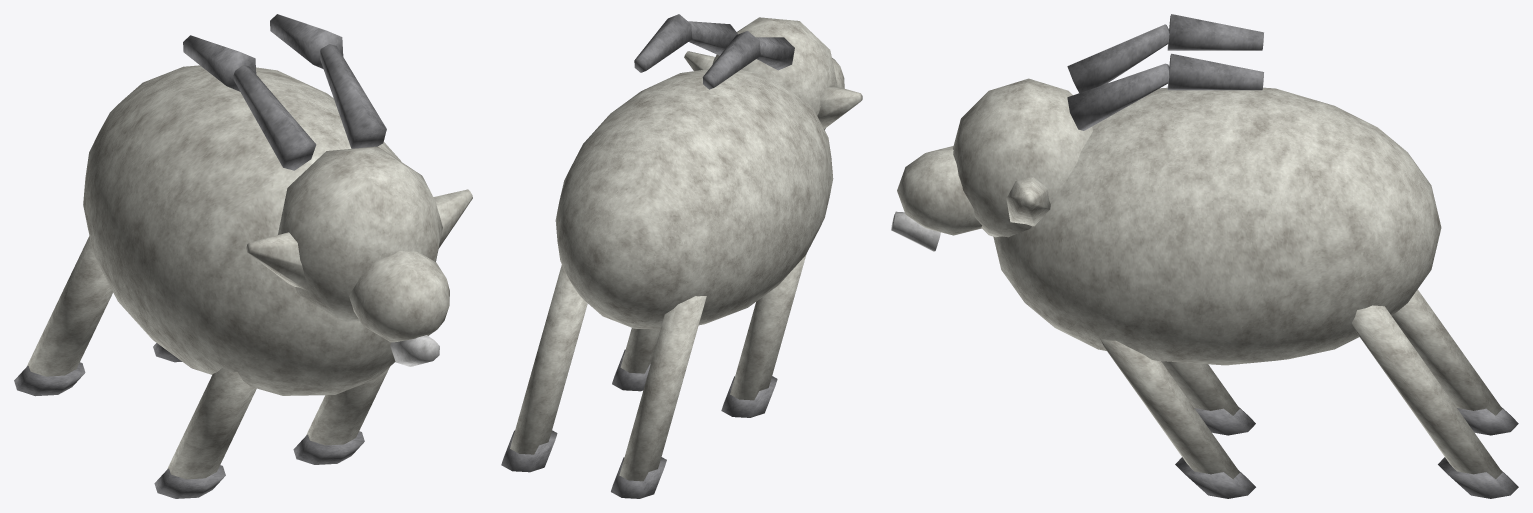
The model's file is mob_kambing_walk2.obj.
The picture shows the model from 3 angles, left to right: view 1: azimuth 30°, elevation 25°; view 2: azimuth 150°, elevation 25°; view 3: azimuth 270°, elevation 25°; orthographic projection. The views are drawn at different scales.
Parts seen in each view (by area): view 1: mob_kambing_walk2; view 2: mob_kambing_walk2; view 3: mob_kambing_walk2.
Part boxes in pixels (bbox=[...]): mob_kambing_walk2: bbox=[14, 14, 472, 498]; mob_kambing_walk2: bbox=[501, 14, 862, 498]; mob_kambing_walk2: bbox=[891, 14, 1518, 498].
Size of the model in its own units: 0.5506 by 0.91 by 1.23.
1 material, 1 textured.
